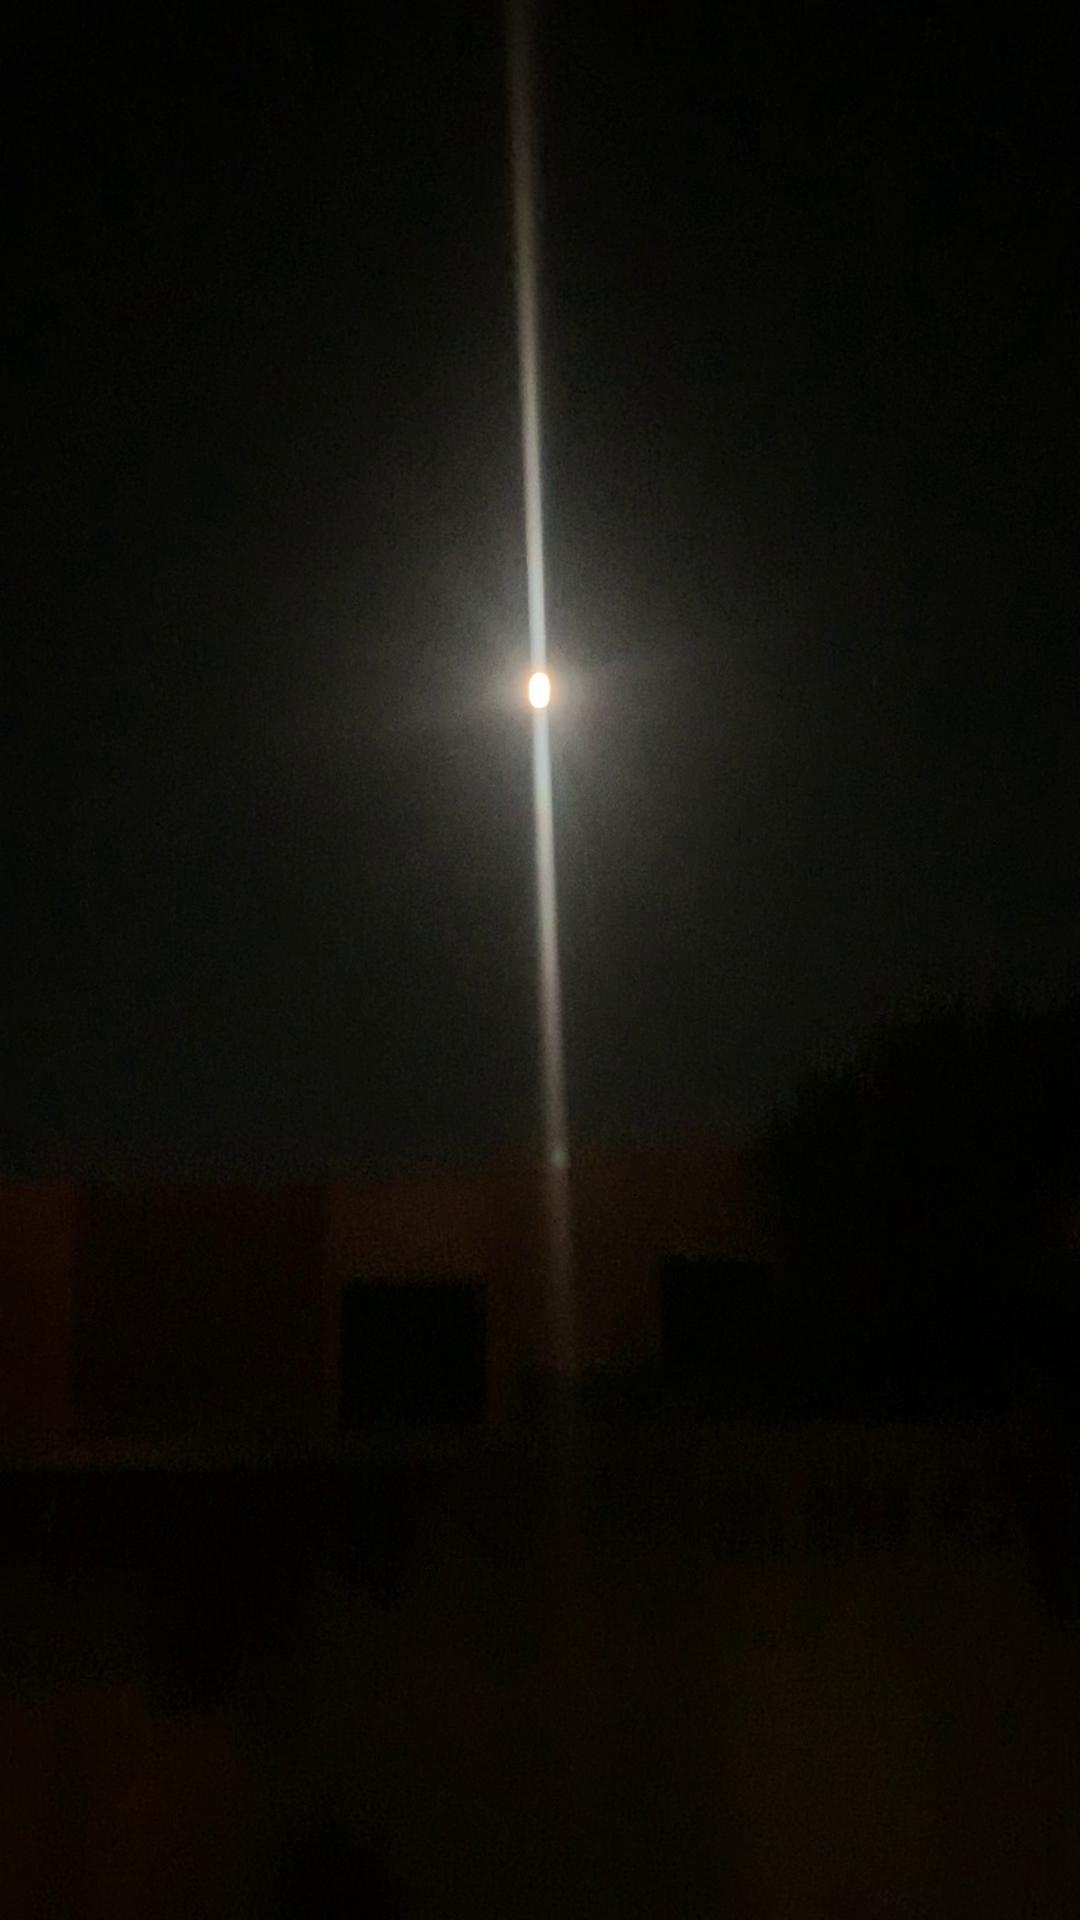moon: (509, 655, 584, 735)
